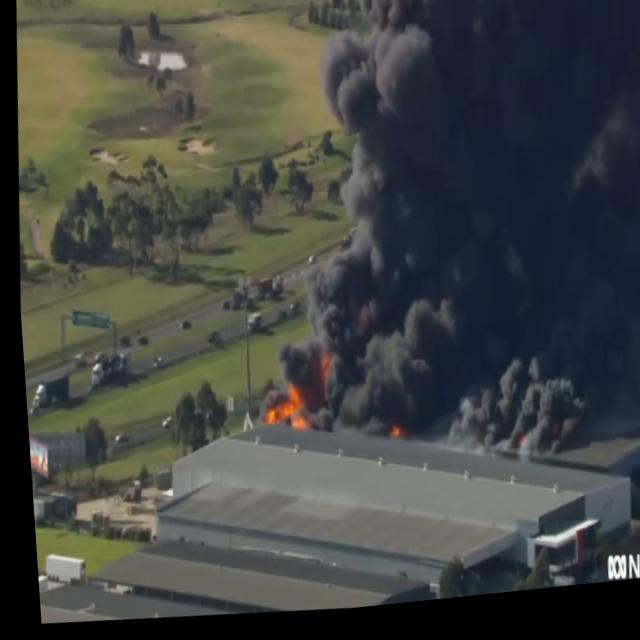Fire: (256, 394, 311, 439)
